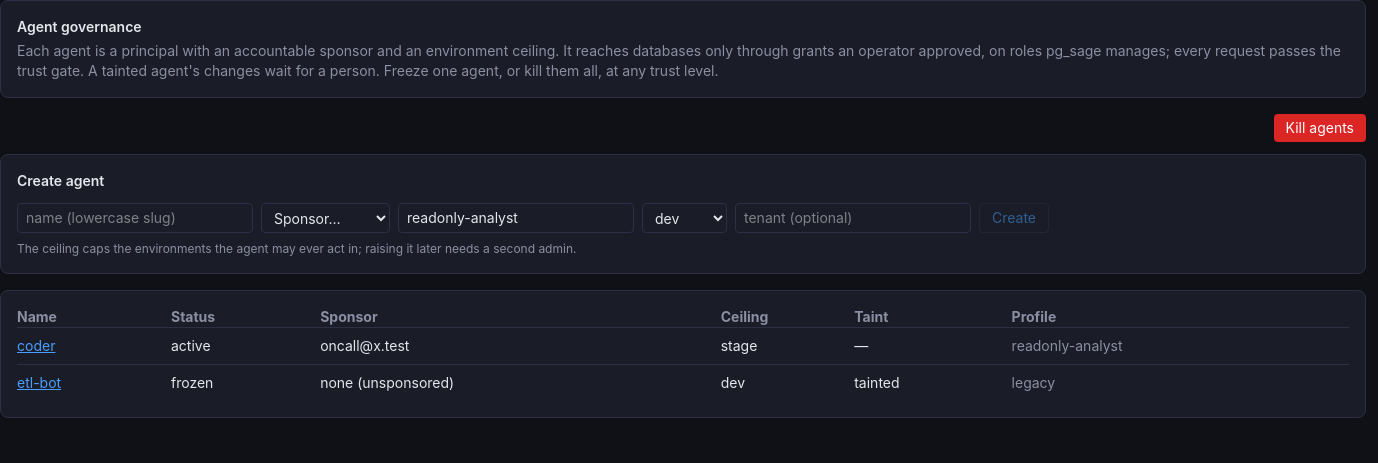
Scenario: AgentsPage create › needs a name and a sponsor, then creates and reloads
Expected: the table with test id "agents-table" is shown, top-left (17, 307), bottom-right (1349, 401)
Expected: the dropdown with test id "agent-create-sponsor" is shown, top-left (261, 203), bottom-right (390, 233)
Type "new-bot" into the field with test id "agent-create-name" at (135, 218), box top-left (17, 203), bottom-right (253, 233)
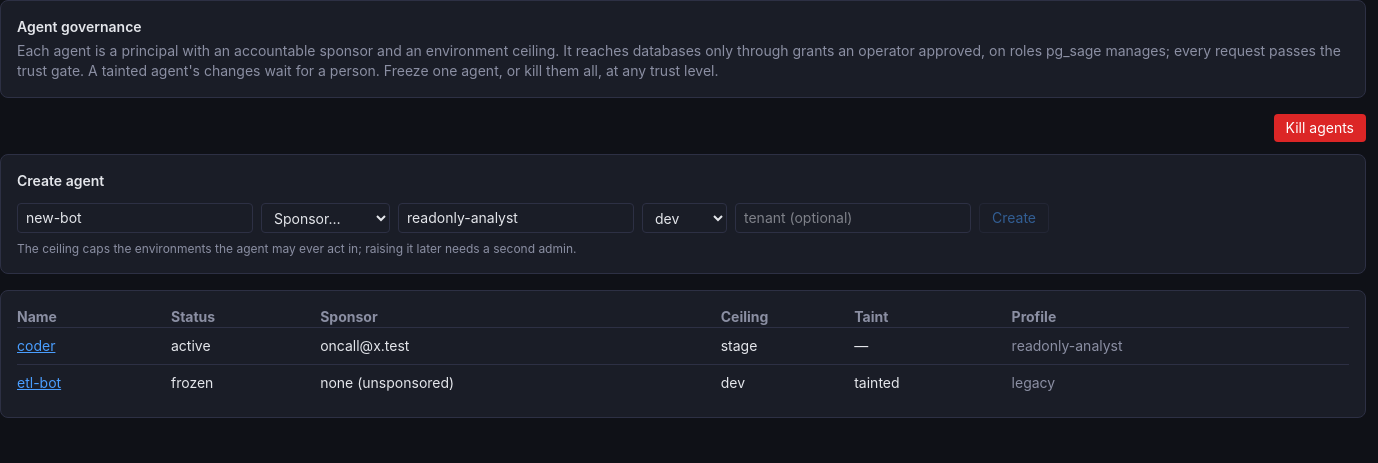
Expected: the button with test id "agent-create-submit" is disabled, top-left (979, 203), bottom-right (1049, 233)
Select "oncall@x.test" in the dropdown with test id "agent-create-sponsor" at (326, 218), box top-left (261, 203), bottom-right (390, 233)
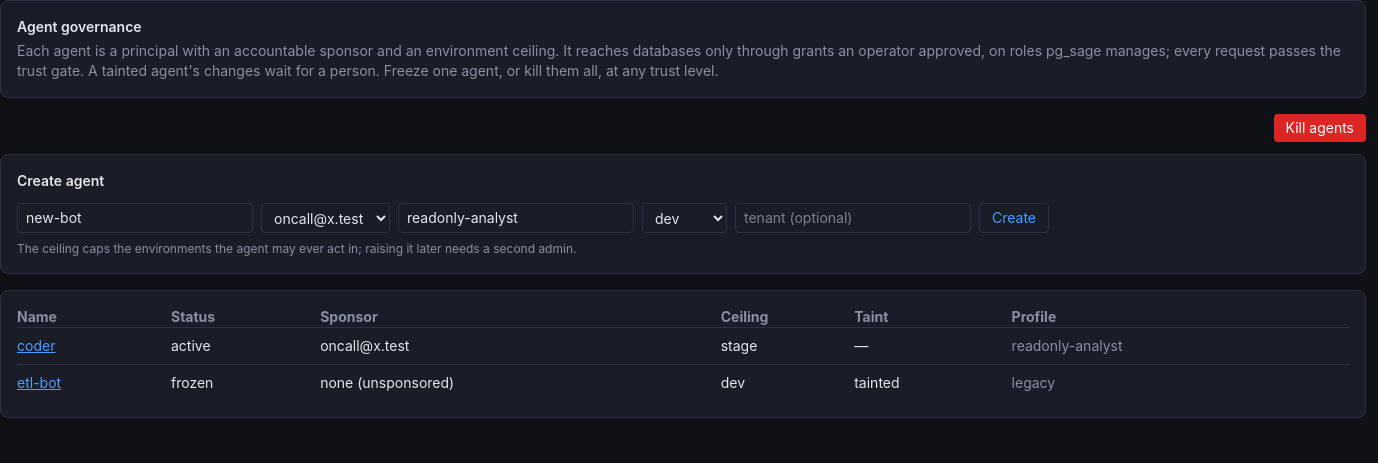
Select "prod" in the dropdown with test id "agent-create-ceiling" at (684, 218), box top-left (642, 203), bottom-right (727, 233)
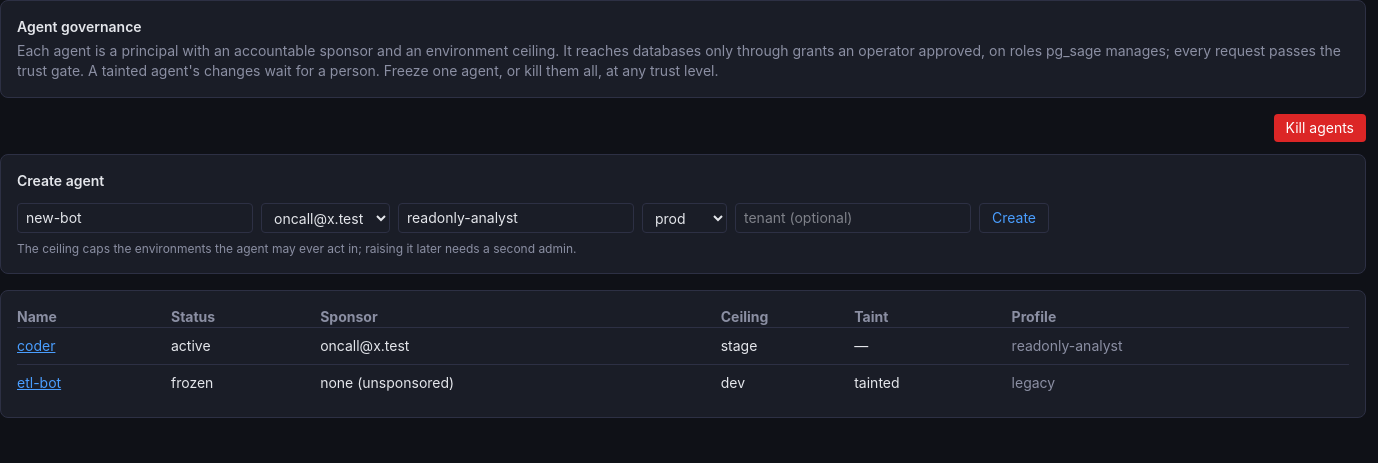
Click the button with test id "agent-create-submit" at (1014, 218), box top-left (979, 203), bottom-right (1049, 233)
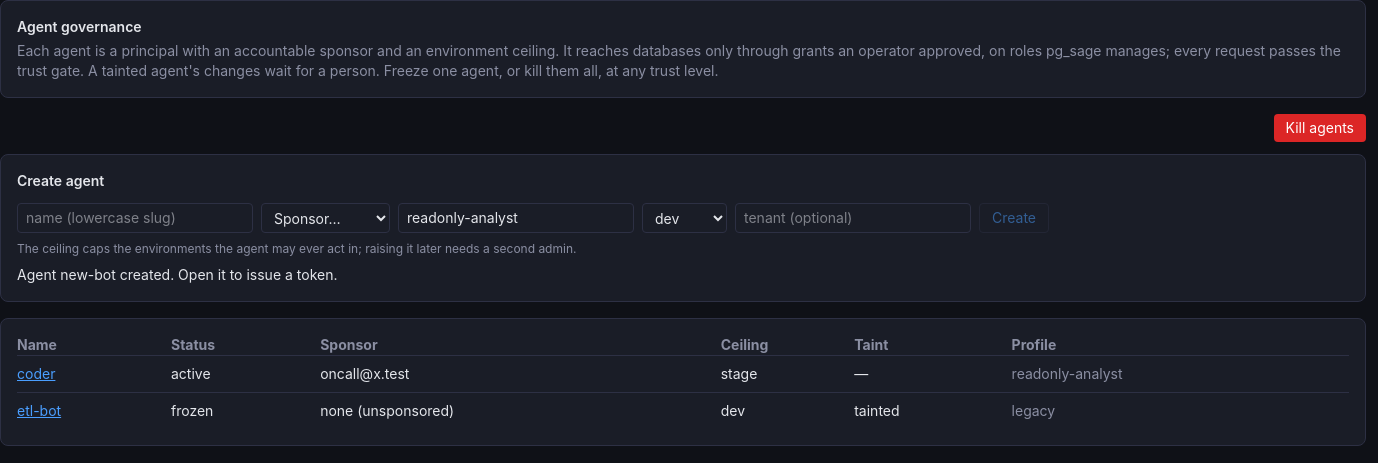
Expected: the text "Agent new-bot created. Open it to issue a token." is shown, top-left (17, 266), bottom-right (338, 283)
